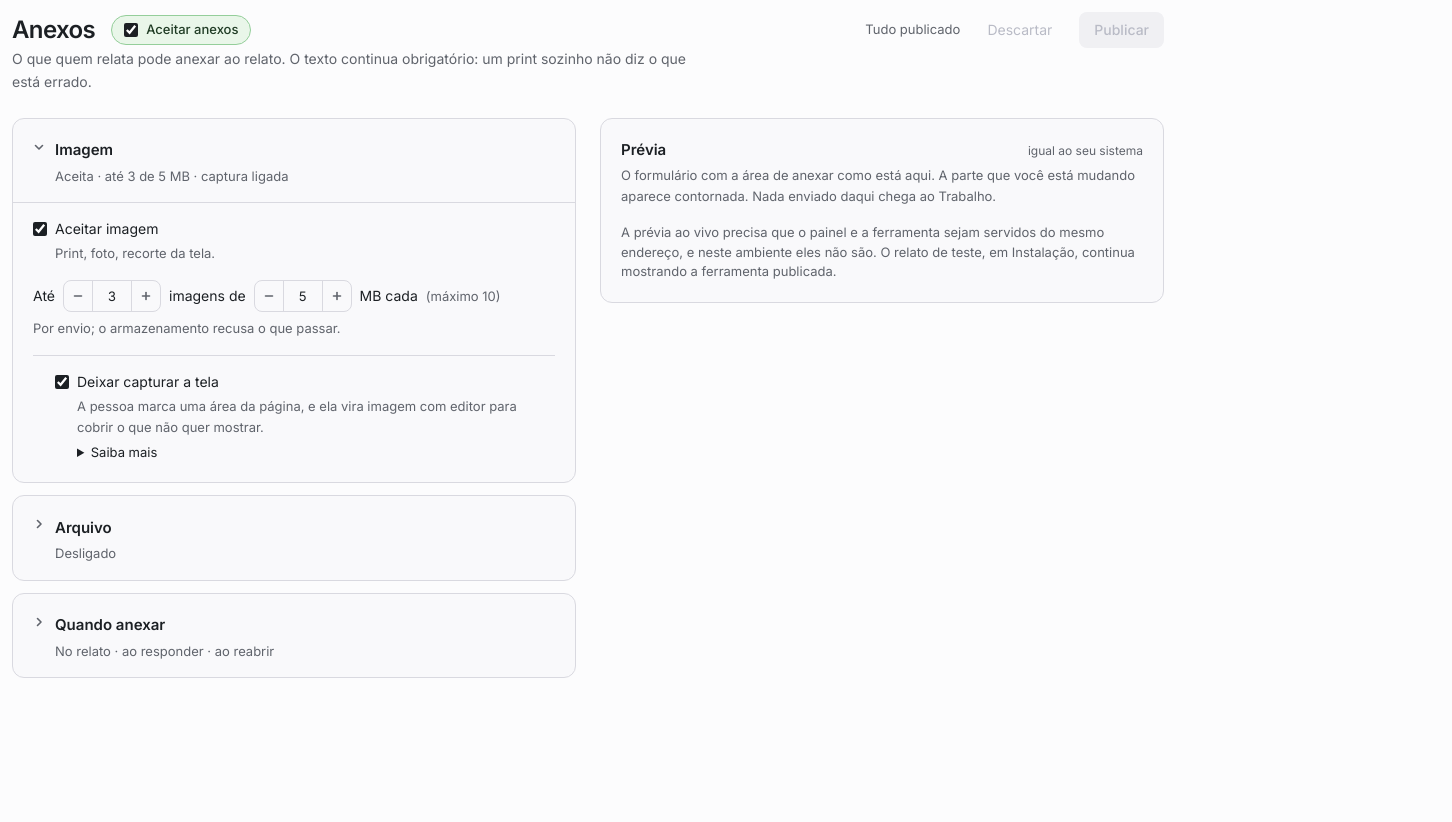
Test: MediaScreen › anexo ligado sem imagem nem arquivo aceito avisa numa linha, e não deixa publicar
Click the checkbox labelled "Aceitar imagem" at (40, 229), box [33,222,47,236]
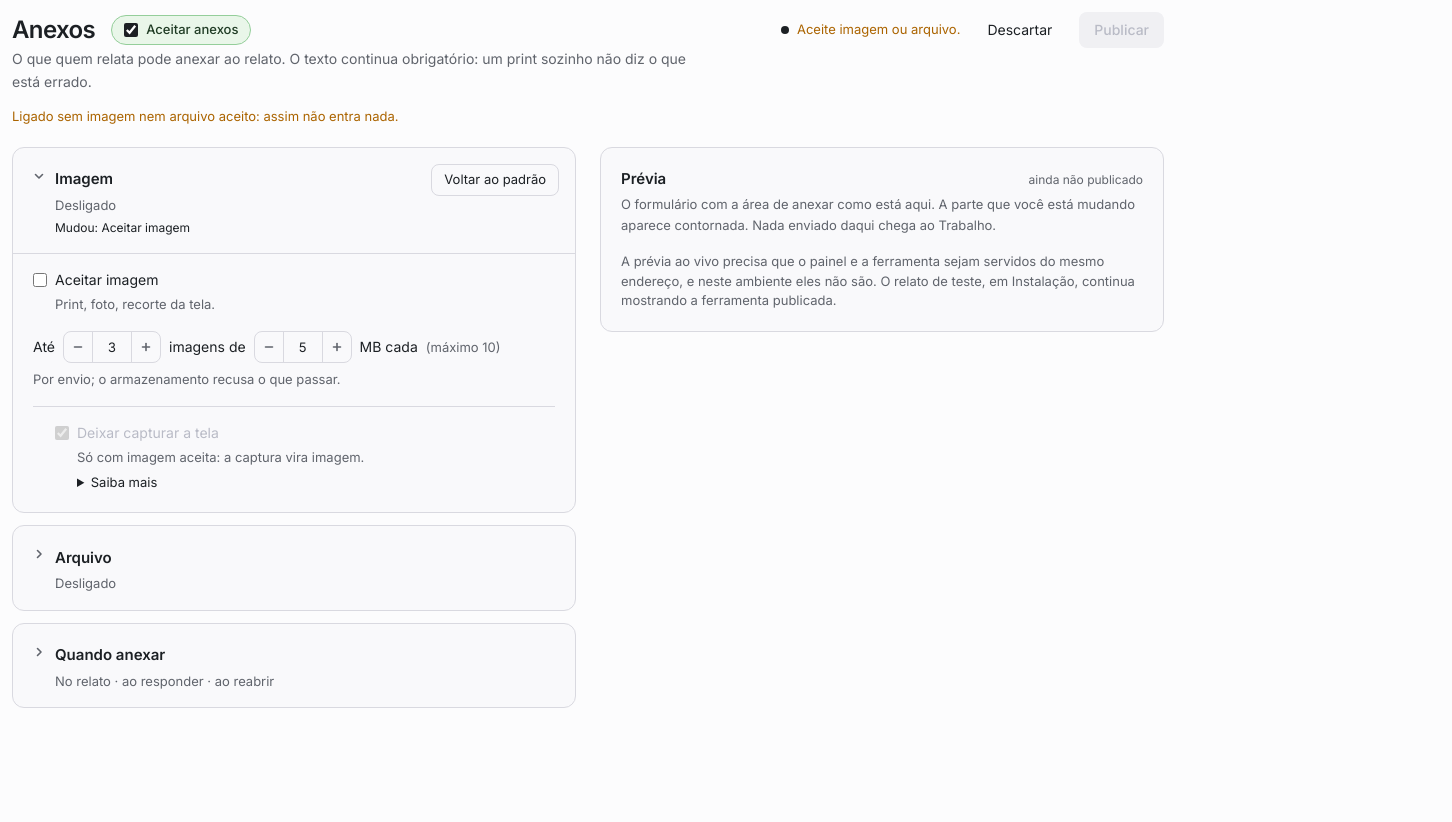
Expected: the button "Publicar" is disabled, [1079,12,1164,48]
Now the text "Aceite imagem ou arquivo." is shown, box [797,21,960,37]
